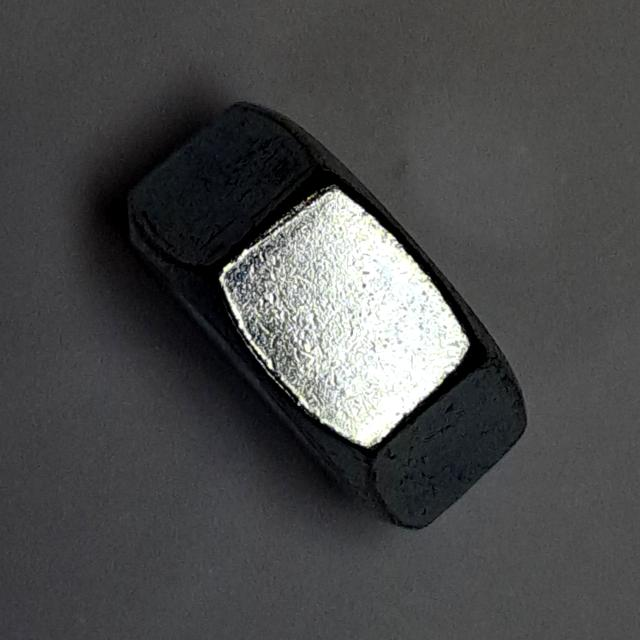Side_Excellent: (113, 94, 552, 545)
